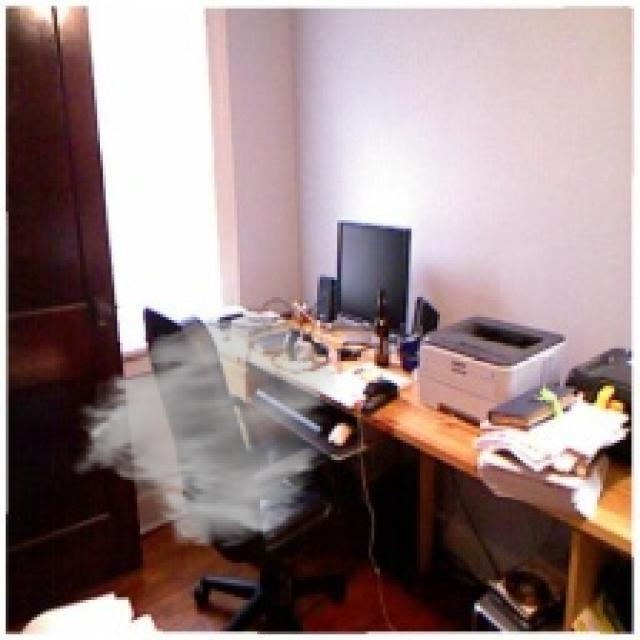Smoke: (68, 308, 340, 552)
